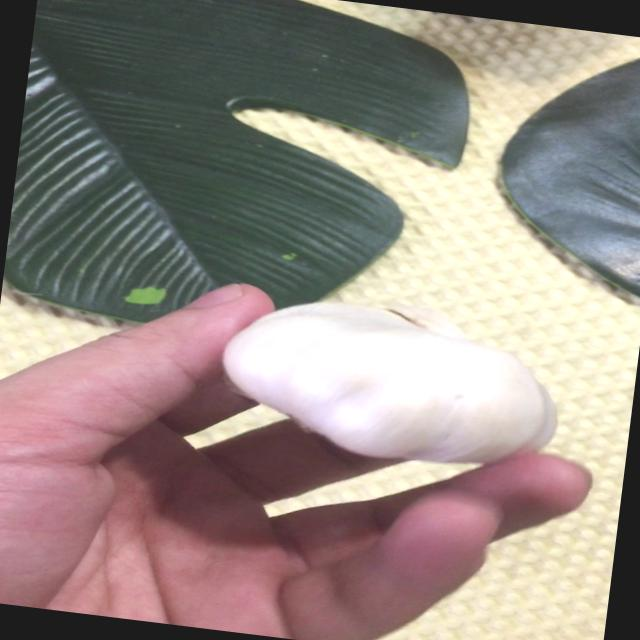bawang: (198, 272, 576, 488)
